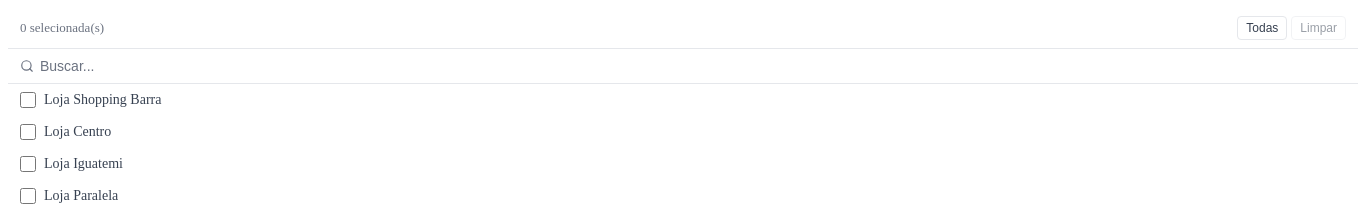
Scenario: MultiSelectFilter › Busca › RF17: busca case-insensitive
The width and height of the screenshot is (1366, 221).
Type "shopping" into the field with class "multi-select-filter__search-input".
click(692, 66); type("shopping")  # box [38,57,1346,75]
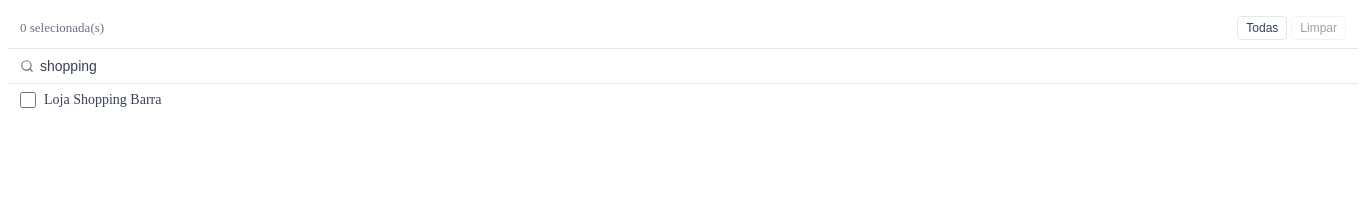
Expected: the number of elements with class "multi-select-filter__option" is 1, [20,92,161,108]
